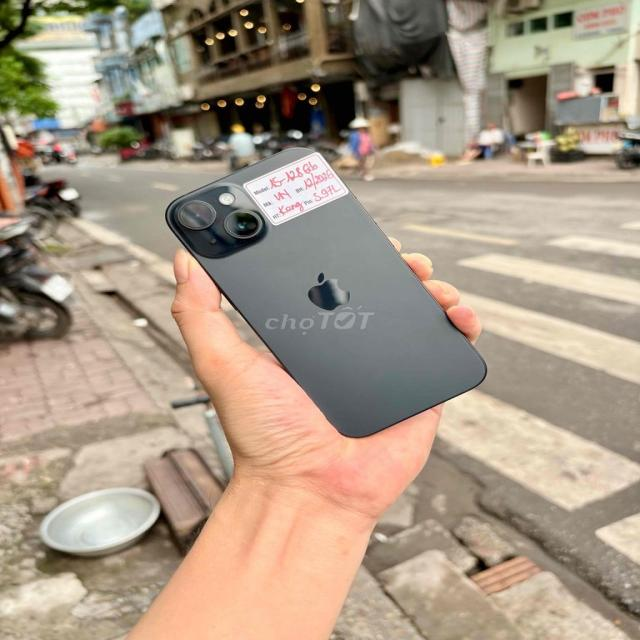gen_15: (148, 138, 498, 442)
